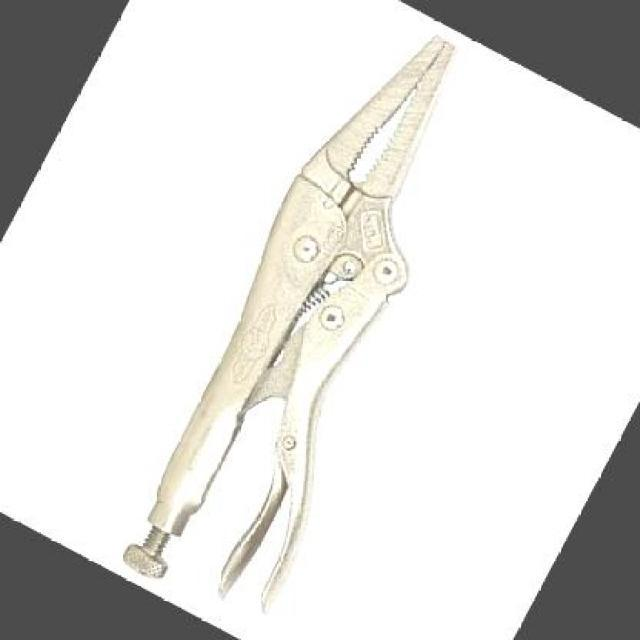pliers: (66, 0, 566, 638)
